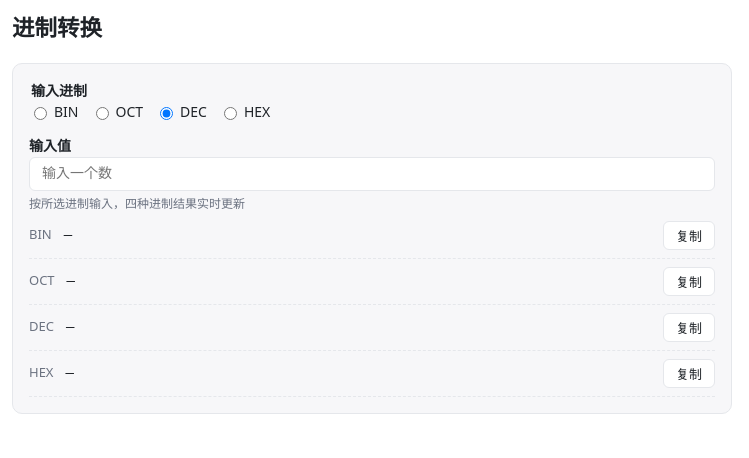
AC-5 非法输入错误提示与恢复 › AC-5: HEX 输入 G → 明确错误文案，三路结果不显示错误数值，修正后恢复
Click the radio button labelled "HEX": (230, 113) [224,107,237,120]
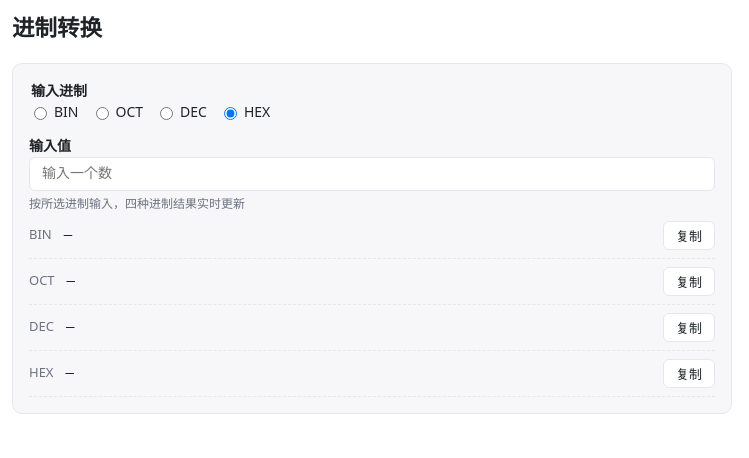
In the field labelled "输入值": (372, 174) [29,157,715,191], type "G"
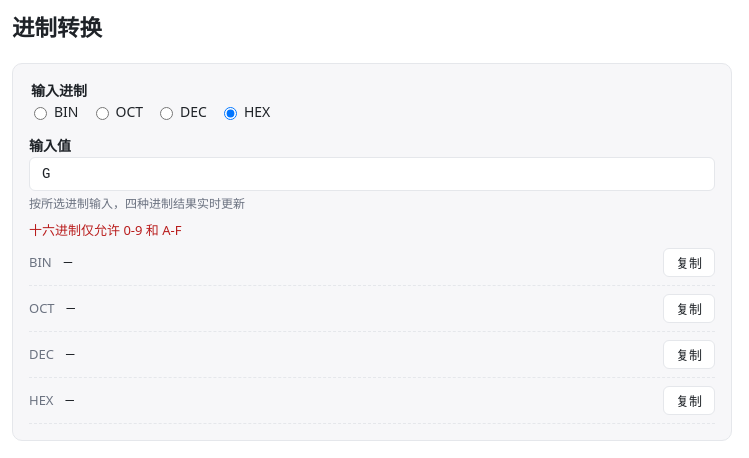
Expected: the 1st text "—" is shown, [64,254,72,270]
Now the message reads "十六进制仅允许 0-9 和 A-F", box [29,221,182,239]
# 修正后自动恢复联动
Replace the text in the field labelled "输入值" with "ff": (372, 174) [29,157,715,191]
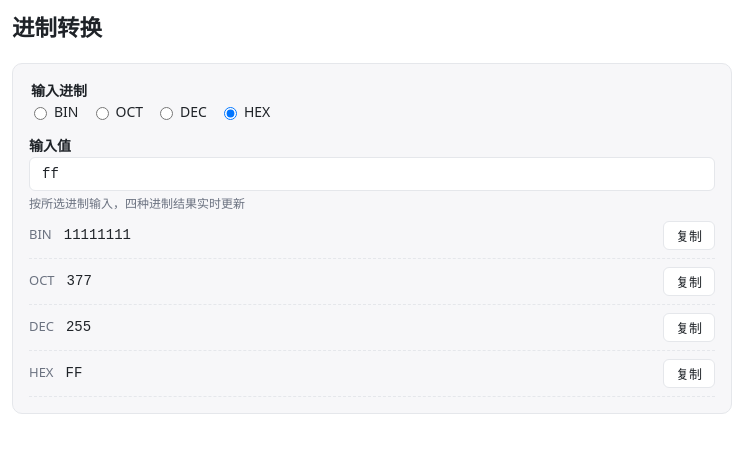
Now the message "十六进制仅允许 0-9 和 A-F" is gone
Now the text "255" is shown, box [66,319,91,335]
